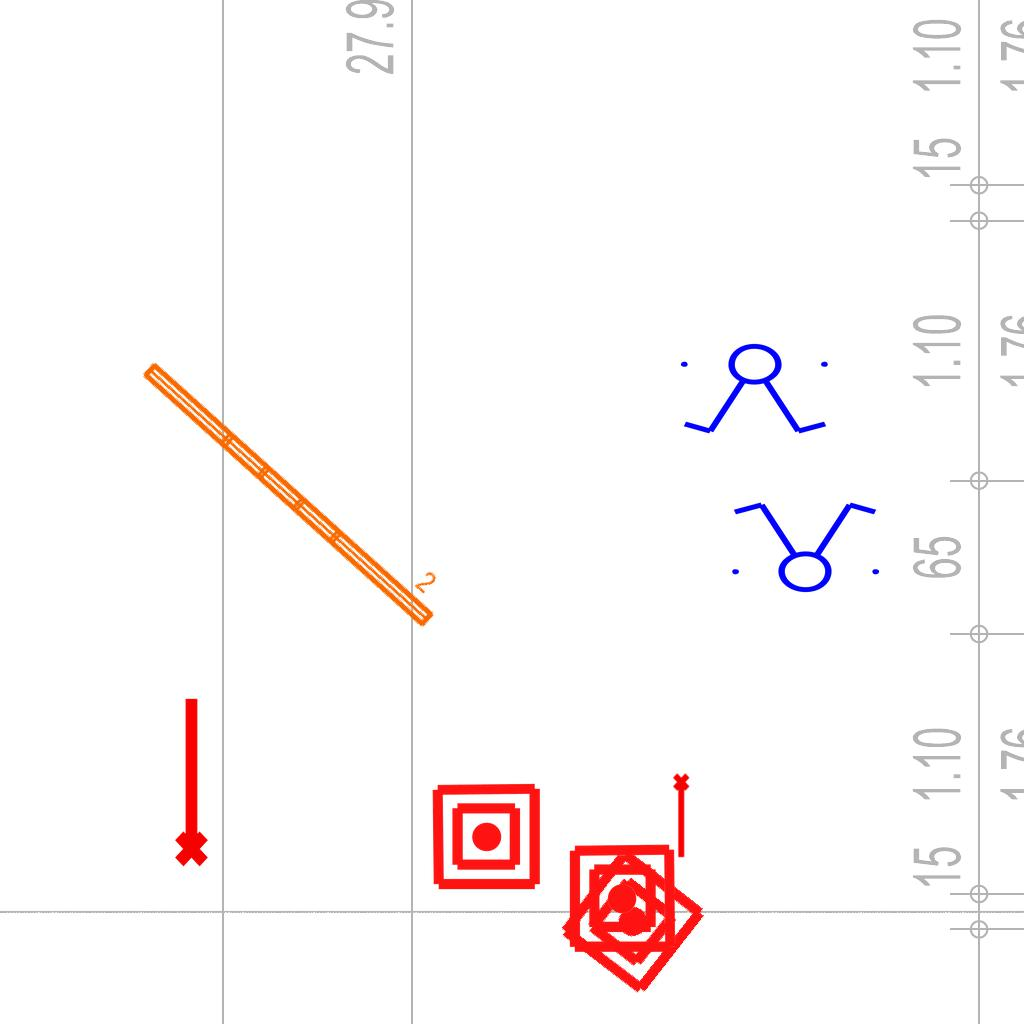ASR_Ansaugoeffnung: (166, 693, 212, 869), (671, 772, 694, 860)
Ambulanz_Pendelleuchte_LED: (133, 334, 460, 636)
NAM-Nichtautomatischer_Melder: (553, 842, 712, 1001), (430, 780, 543, 893), (566, 842, 679, 955)
Serienschalter: (672, 342, 840, 438), (720, 498, 888, 594)
